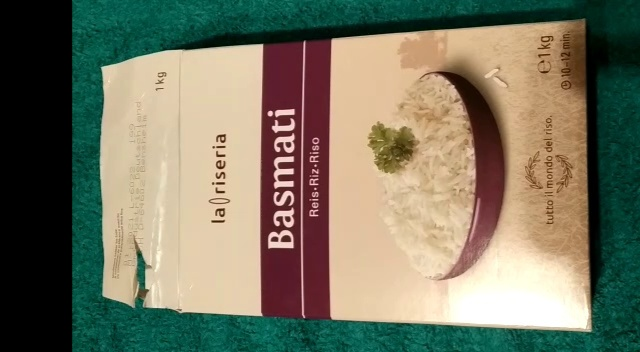basmati_rice: (92, 16, 597, 334)
